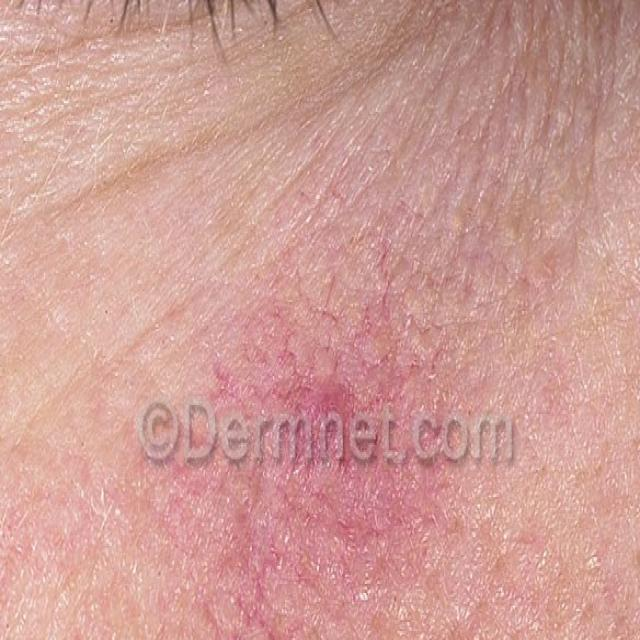Vascular Tumors: (221, 209, 494, 640)
